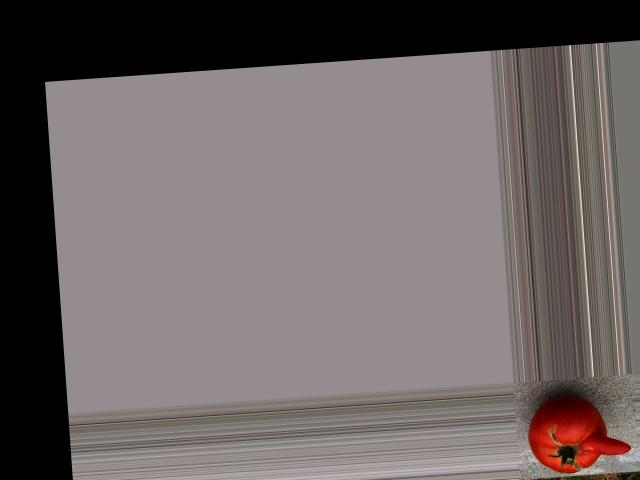tomato: (524, 394, 609, 475)
